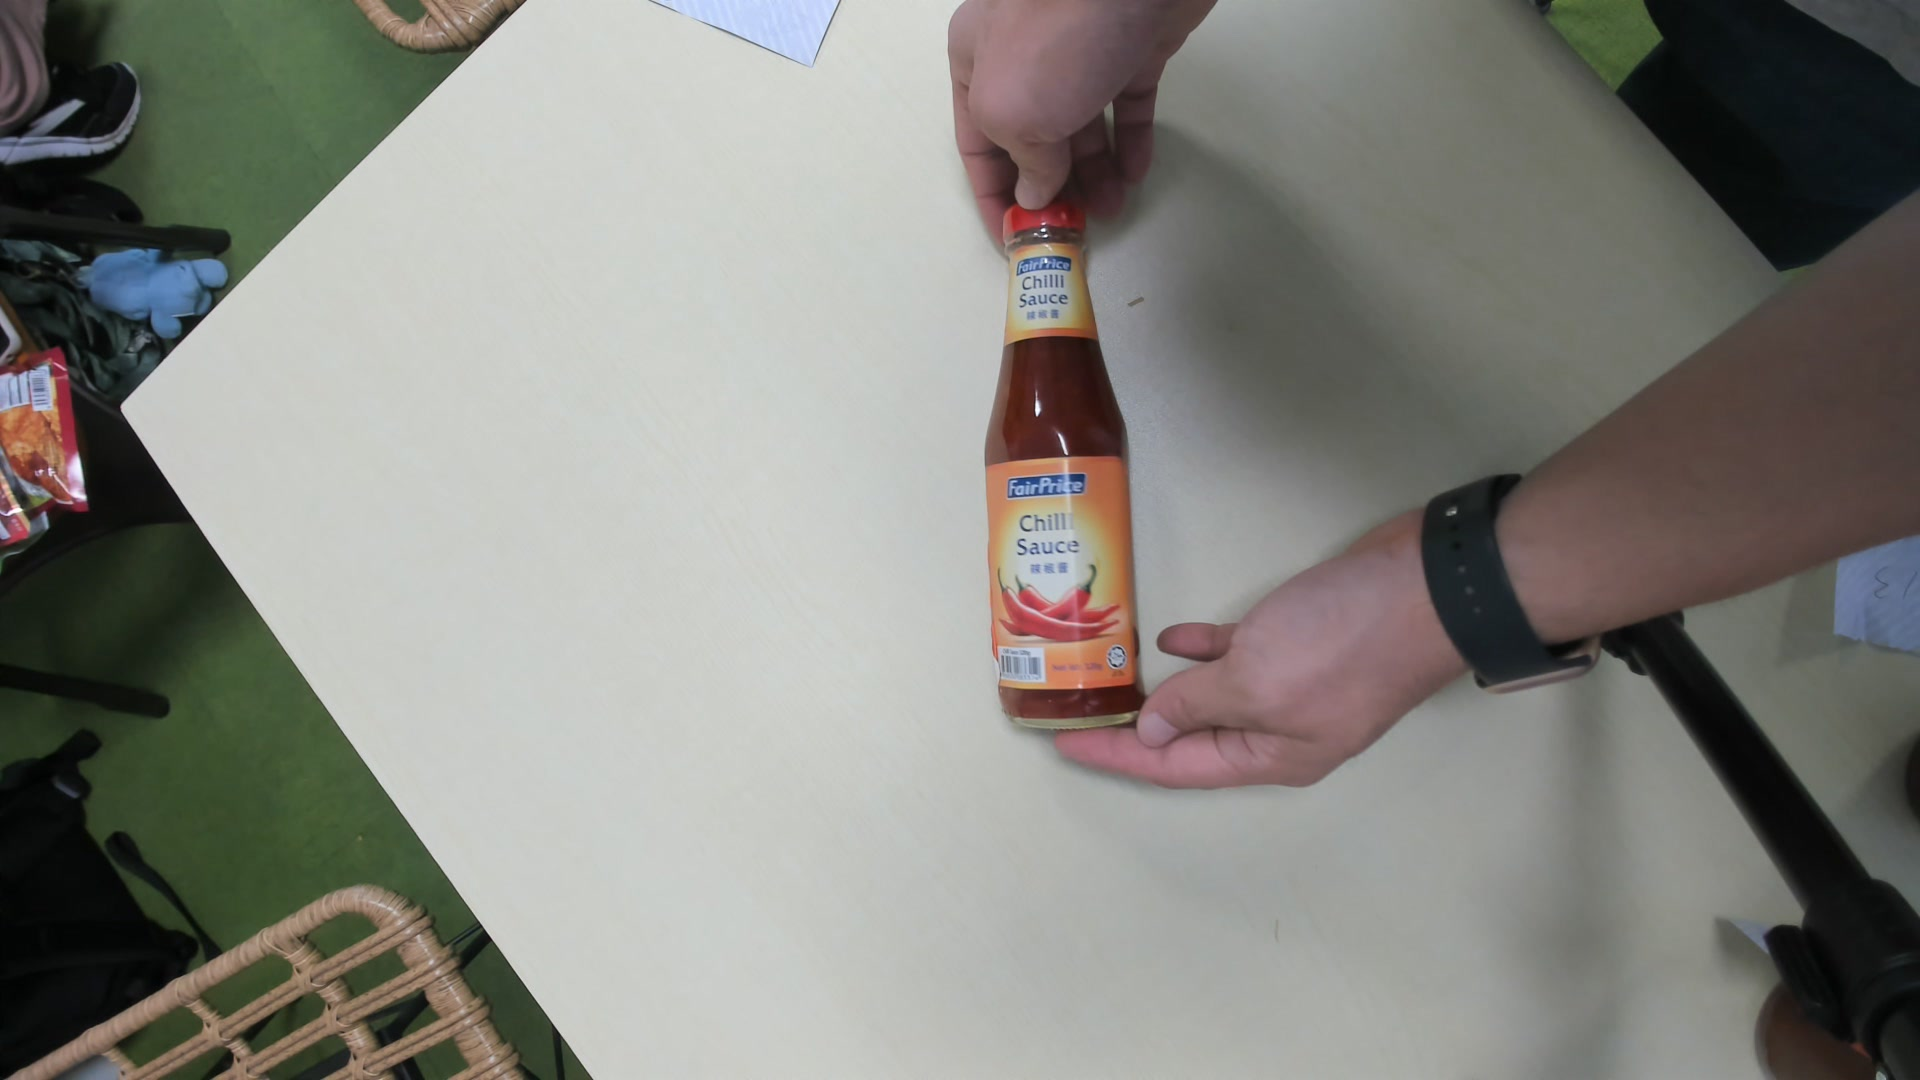KetchupChillSauce_300-399g_Halal_NonHealthy: (981, 207, 1147, 738)
